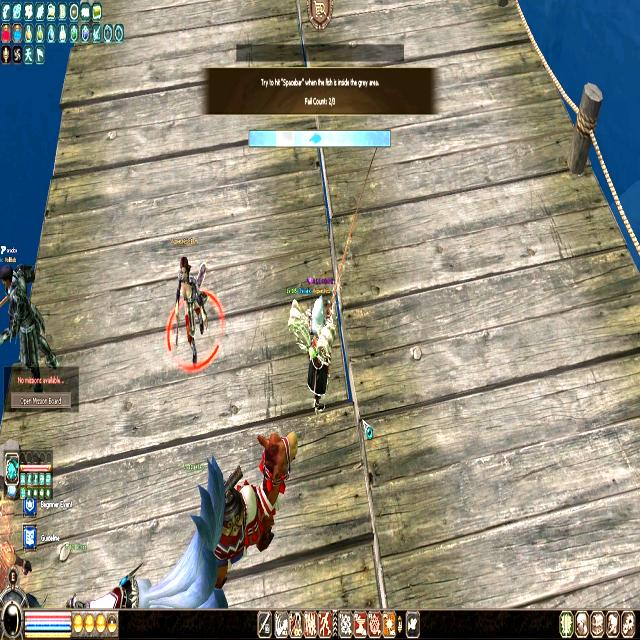fishes: (308, 132, 321, 145)
